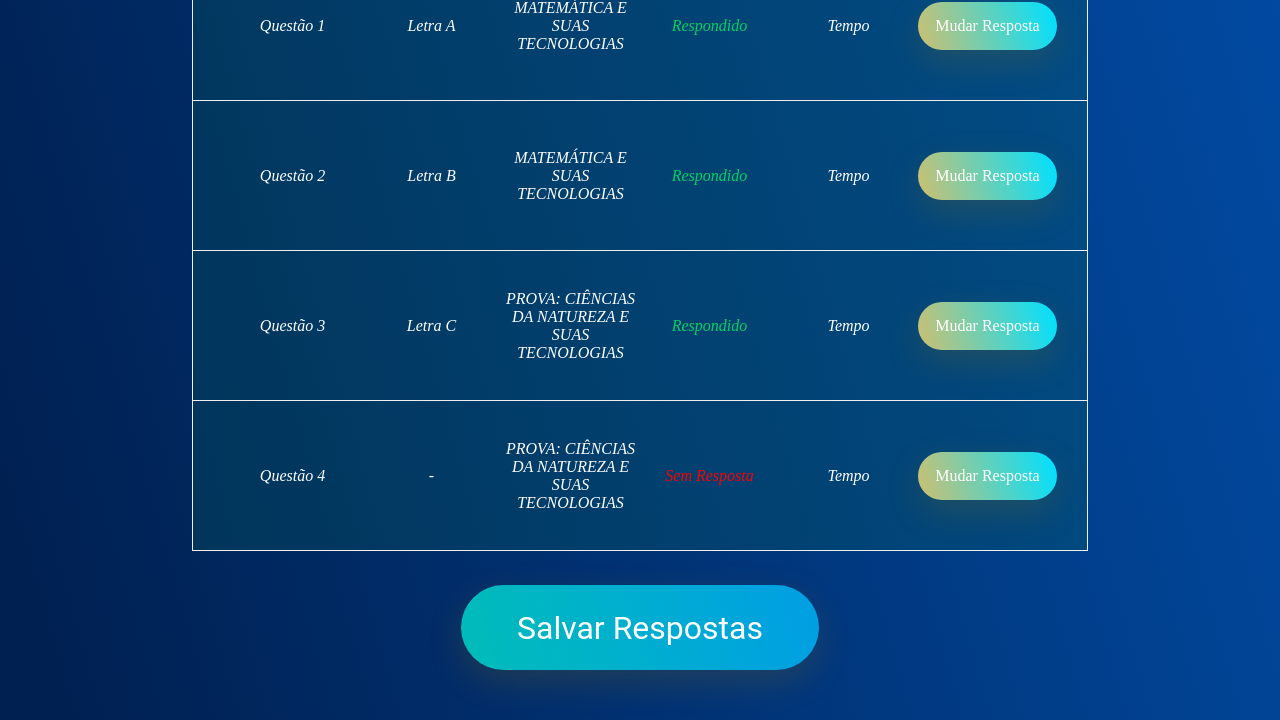
it: Answers tests › should post answers to API and display a modal
The image size is (1280, 720).
(page scrolled)
Click the button "Salvar Respostas".
click(640, 628)  # box [461,585,819,670]
(page scrolled)
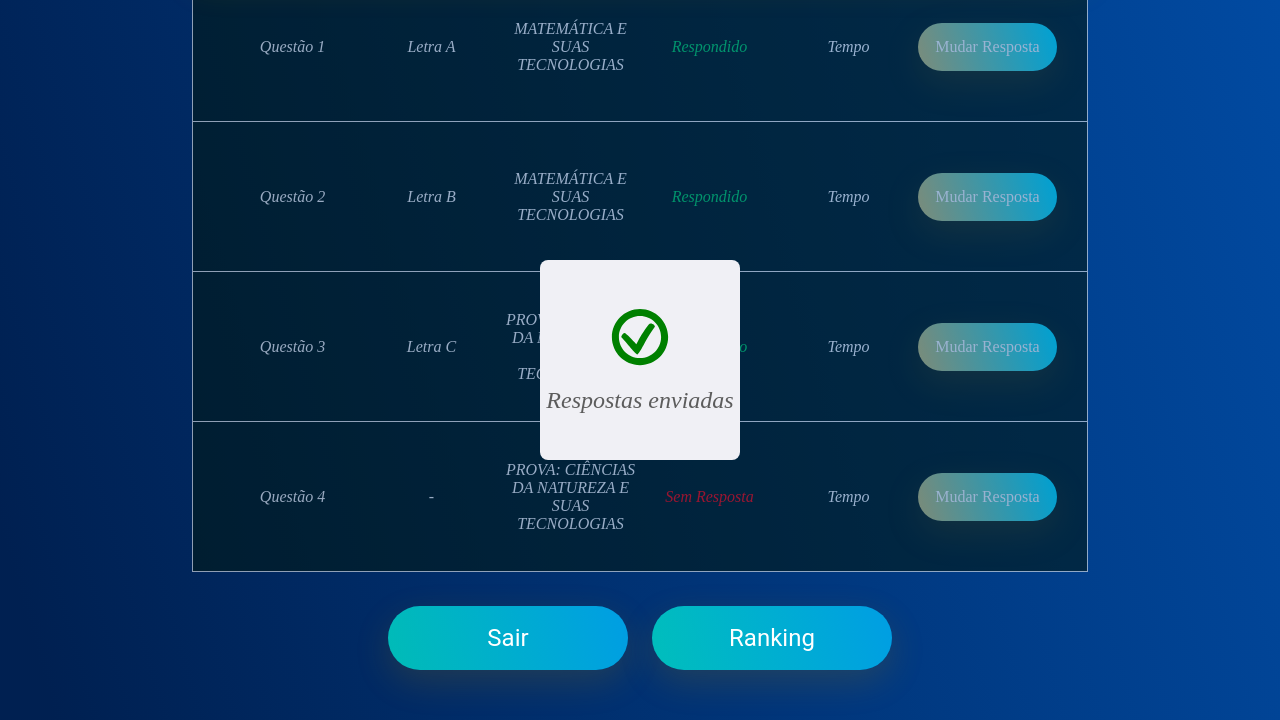
Expected: the text "Respostas enviadas" is shown, [546,386,734,414]
